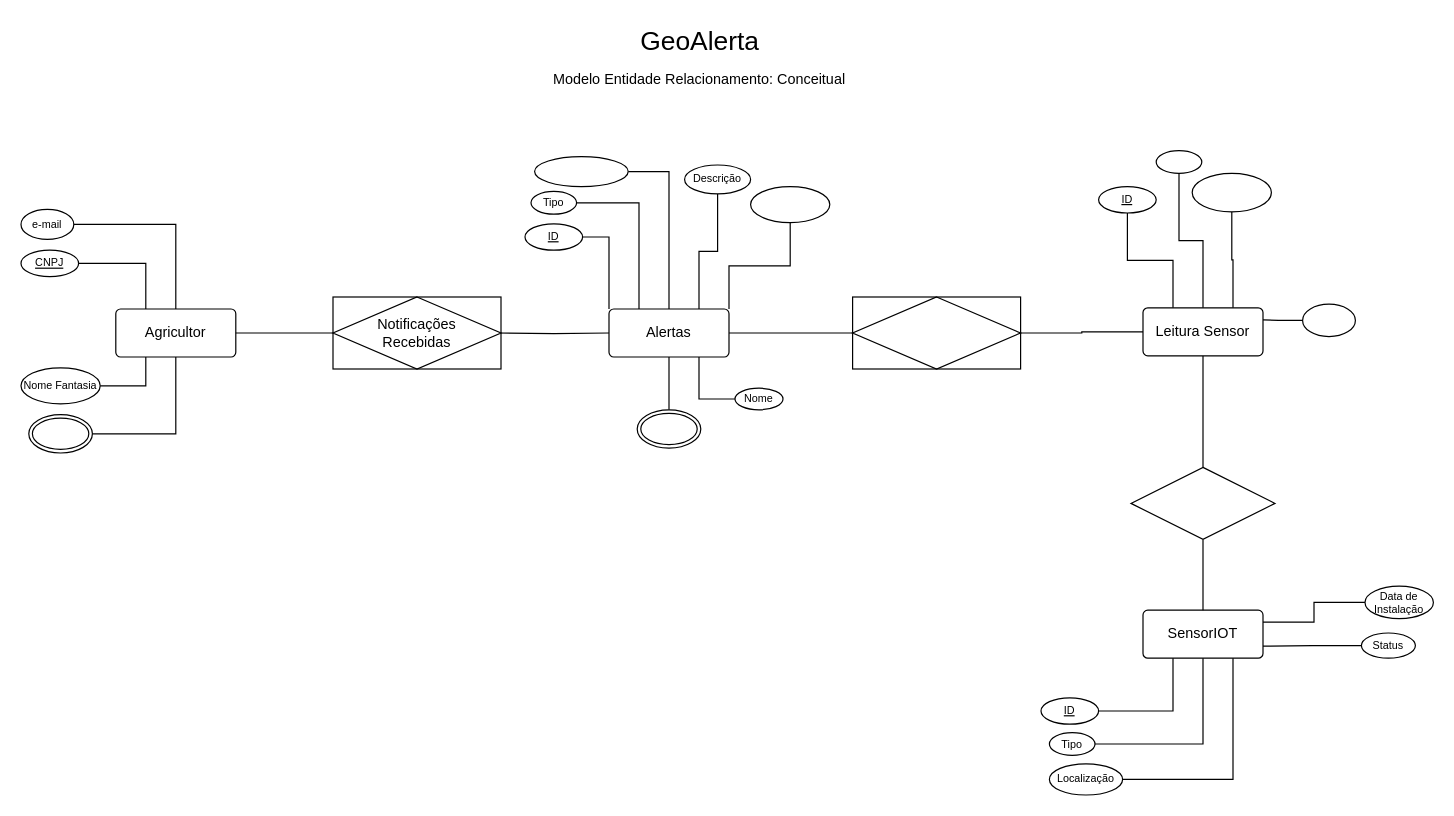
Image size: 1454x816. Some labels were removed from this diagram. Here are the shapes that lost their labels. From the top down, the centre of each, then its label:
(x=580, y=171): Grau de Gravidade
(x=1178, y=161): Valor
(x=789, y=204): Data de emissão
(x=1231, y=192): Unidade de Medida
(x=936, y=332): SensoresAlerta
(x=1328, y=320): Data e Hora
(x=60, y=433): Endereços
(x=668, y=428): Regiões
(x=1202, y=502): Realiza
